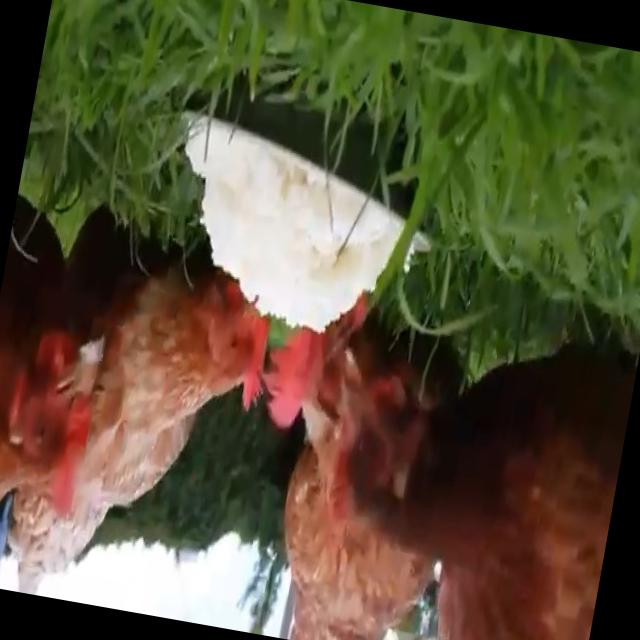feeding: (0, 199, 288, 627), (290, 321, 629, 640)
